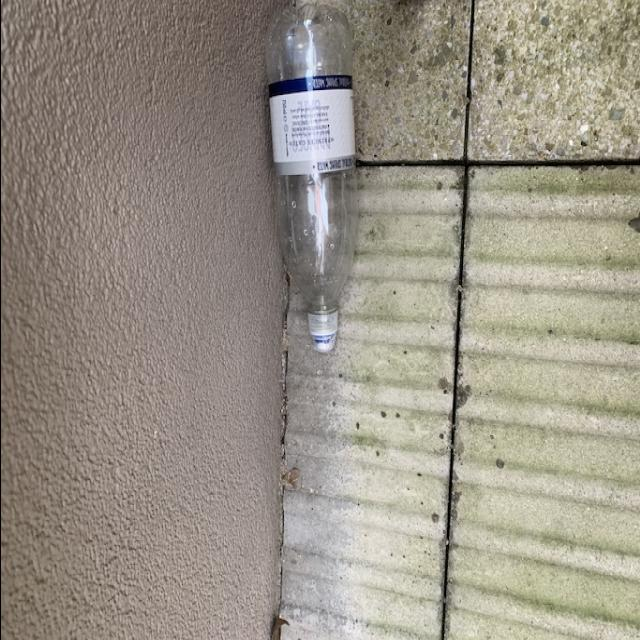litter: (262, 2, 360, 356)
